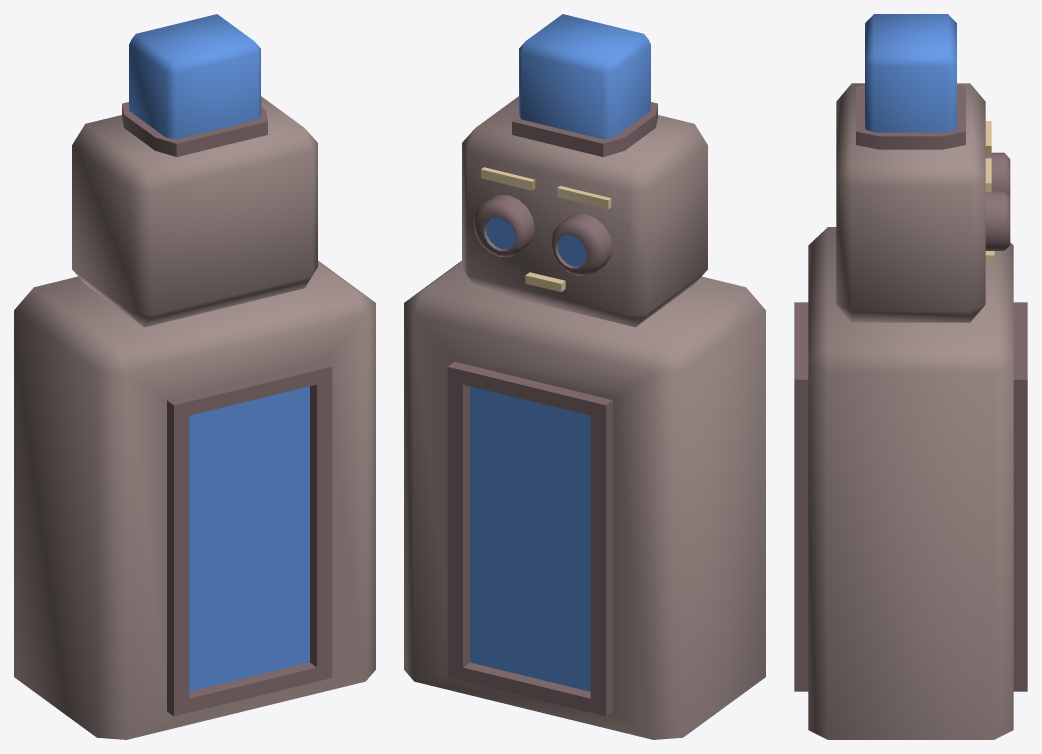
Rendered from Blue_Manager.fbx.
3 views of the same model, side by side, from view 1: azimuth 30°, elevation 25°; view 2: azimuth 150°, elevation 25°; view 3: azimuth 270°, elevation 25° (orthographic).
Parts seen in each view (by area): view 1: Body.002, Head.002; view 2: Body.002, Head.002, R_Eye.002, L_Eye.002, R_Brow.002, L_Brow.002; view 3: Body.002, Head.002, L_Eye.002, R_Eye.002.
Part boxes in pixels (x1,y1,x2,y2): Body.002: (14,261,375,739); Head.002: (72,14,317,327); Body.002: (404,261,765,739); Head.002: (462,14,707,327); R_Eye.002: (551,214,612,275); L_Eye.002: (473,195,534,257); R_Brow.002: (557,186,611,209); L_Brow.002: (481,167,535,190); Body.002: (794,227,1027,739); Head.002: (836,14,985,322); L_Eye.002: (985,190,1010,250); R_Eye.002: (985,152,1010,195).
Size of the model in its own units: 17.55 by 38.22 by 12.66.
